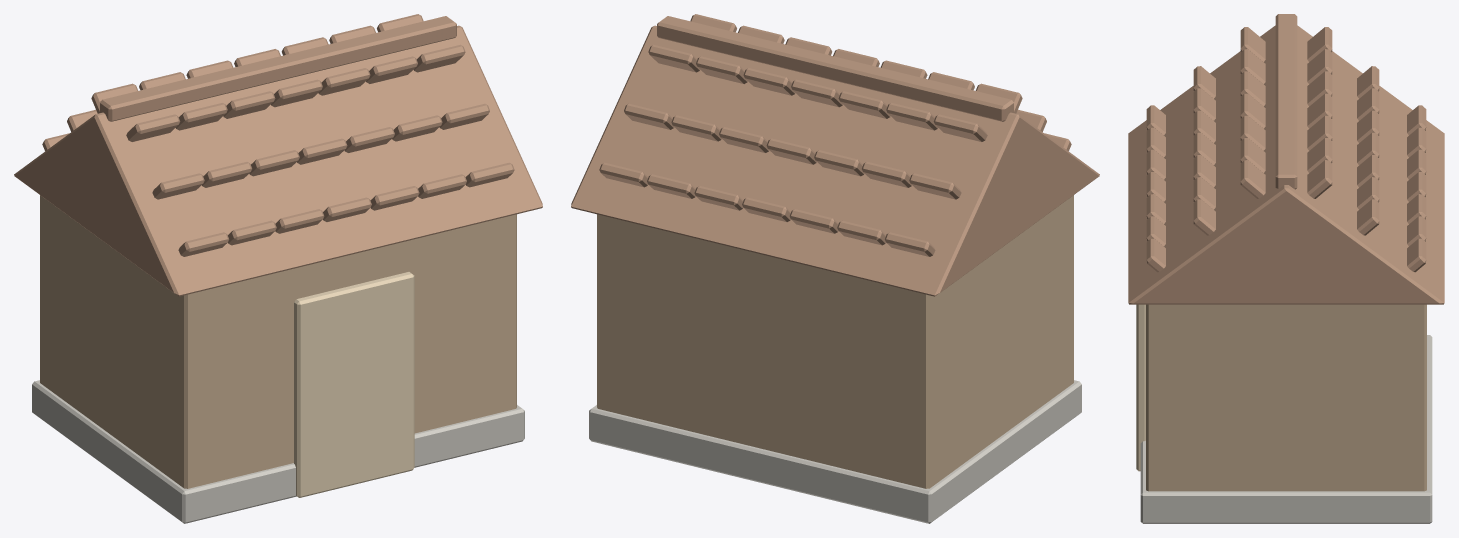
Rendered from barn_b.glb.
3 views of the same model, side by side, from view 1: azimuth 30°, elevation 25°; view 2: azimuth 150°, elevation 25°; view 3: azimuth 270°, elevation 25° (orthographic). The views are drawn at different scales.
Parts seen in each view (by area): view 1: wall, roof, door, skirt, ridge, shingle.014, shingle.018, shingle.020, shingle.019, shingle.017, shingle.016, shingle.015 (+14 smaller); view 2: wall, roof, skirt, ridge, shingle.035, shingle.039, shingle.041, shingle.040, shingle.038, shingle.037, shingle.036, shingle.028 (+13 smaller); view 3: wall, roof, skirt, ridge, door, shingle.020, shingle.041, shingle.013, shingle.034, shingle.015, shingle.017, shingle.036 (+35 smaller).
Part boxes in pixels (x1,y1,x2,y2): wall: (40, 195, 516, 488); roof: (14, 25, 542, 296); door: (294, 272, 414, 497); skirt: (32, 380, 524, 523); ridge: (100, 16, 456, 121); shingle.014: (126, 114, 180, 141); shingle.018: (318, 68, 370, 95); shingle.020: (413, 44, 465, 72); shingle.019: (366, 56, 417, 83); shingle.017: (271, 79, 322, 107); shingle.016: (223, 91, 275, 118); shingle.015: (176, 103, 227, 130); wall: (597, 195, 1073, 488); roof: (571, 25, 1099, 296); skirt: (589, 380, 1081, 523); ridge: (657, 16, 1013, 121); shingle.035: (933, 114, 987, 141); shingle.039: (743, 68, 795, 95); shingle.041: (648, 44, 700, 72); shingle.040: (696, 56, 747, 83); shingle.038: (791, 79, 842, 107); shingle.037: (838, 91, 890, 118); shingle.036: (886, 103, 937, 130); shingle.028: (909, 173, 961, 199); wall: (1146, 304, 1426, 491); roof: (1128, 25, 1444, 304); skirt: (1140, 335, 1432, 523); ridge: (1275, 14, 1297, 189); door: (1136, 304, 1145, 471); shingle.020: (1240, 160, 1265, 198); shingle.041: (1307, 160, 1332, 198); shingle.013: (1193, 199, 1215, 235); shingle.034: (1357, 199, 1379, 235); shingle.015: (1240, 49, 1265, 84); shingle.017: (1240, 93, 1265, 128); shingle.036: (1307, 49, 1332, 84).
Size of the model in its own units: 1.88 by 1.79 by 1.46.
